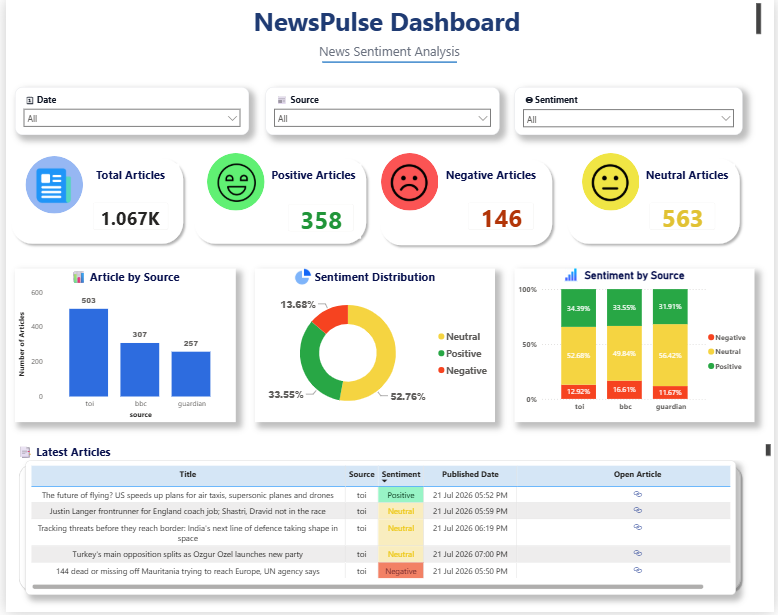

What the dashboard file says about the page in this screenshot:
{"tool":"powerbi","page":{"name":"Page 1","canvas":[1280,1020],"ordinal":0},"visuals":[{"type":"shape","box":[16,768,1216,224],"z":0},{"type":"textbox","box":[16,0,1248,64],"z":1000},{"type":"textbox","box":[16,64,1248,48],"z":2000},{"type":"shape","box":[528,48,224,112],"z":3000},{"type":"slicer","fields":{"Values":["public news.Date Only"]},"box":[16,144,390,80],"z":4000},{"type":"slicer","fields":{"Values":["public news.source"]},"box":[432,144,390,80],"z":5000},{"type":"slicer","fields":{"Values":["public news.sentiment"]},"box":[848,144,380,80],"z":6000},{"type":"shape","box":[0,256,304,160],"z":7000},{"type":"shape","box":[32,259.6,96,96],"z":8000},{"type":"image","box":[48,276.8,64,64],"z":9000},{"type":"cardVisual","fields":{"Data":["CountNonNull(public news.id)"]},"box":[128,320,160,80],"z":10000},{"type":"textbox","box":[144,272,144,64],"z":11000},{"type":"shape","box":[304,256,304,160],"z":12000},{"type":"shape","box":[336,256,96,96],"z":13000},{"type":"cardVisual","fields":{"Data":["public news.Positive Articles"]},"box":[451.3,322.6,144,80],"z":14000},{"type":"textbox","box":[432,272,160,48],"z":15000},{"type":"shape","box":[614.1,258.6,304,160],"z":16000},{"type":"shape","box":[624,256,96,96],"z":17000},{"type":"cardVisual","fields":{"Data":["public news.Negative Articles"]},"box":[752,320,144,80],"z":18000},{"type":"textbox","box":[720,272,176,48],"z":19000},{"type":"shape","box":[928,256,304,160],"z":20000},{"type":"shape","box":[960,256,96,96],"z":21000},{"type":"cardVisual","fields":{"Data":["public news.Neutral Articles"]},"box":[1056,320,144,80],"z":22000},{"type":"textbox","box":[1056,272,160,64],"z":23000},{"type":"image","box":[352,272,64,64],"z":24000},{"type":"image","box":[976,272,64,64],"z":25000},{"type":"image","box":[640,272,64,64],"z":26000},{"type":"clusteredColumnChart","title":"📊 Article by Source","fields":{"Category":["public news.source"],"Y":["CountNonNull(public news.id)"]},"box":[16,448,368,256],"z":27000},{"type":"donutChart","title":"Sentiment Distribution","fields":{"Category":["public news.sentiment"],"Y":["CountNonNull(public news.id)"]},"box":[416,448,400,256],"z":28000},{"type":"image","box":[480,448,30,27],"z":29000},{"type":"hundredPercentStackedColumnChart","title":"Sentiment by Source","fields":{"Category":["public news.source"],"Series":["public news.sentiment"],"Y":["CountNonNull(public news.id)"]},"box":[848,448,400,256],"z":30000},{"type":"image","box":[928,448,28,21],"z":31000},{"type":"tableEx","fields":{"Values":["public news.title","public news.source","public news.sentiment","public news.published","public news.link"]},"box":[32,768,1184,224],"z":32000},{"type":"textbox","box":[16,736,1264,32],"z":33000}]}

Visuals, with their boxes in screenshot pixels (x1, y1, x2, y2), scaled from the page's 1280x1020 canvas onto the 778x615 screenshot:
shape: 10:463:749:598
textbox: 10:0:768:39
textbox: 10:39:768:68
shape: 321:29:457:96
slicer - public news.Date Only: 10:87:247:135
slicer - public news.source: 263:87:500:135
slicer - public news.sentiment: 515:87:746:135
shape: 0:154:185:251
shape: 19:157:78:214
image: 29:167:68:205
cardVisual - CountNonNull(public news.id): 78:193:175:241
textbox: 88:164:175:203
shape: 185:154:370:251
shape: 204:154:263:212
cardVisual - public news.Positive Articles: 274:195:362:243
textbox: 263:164:360:193
shape: 373:156:558:252
shape: 379:154:438:212
cardVisual - public news.Negative Articles: 457:193:545:241
textbox: 438:164:545:193
shape: 564:154:749:251
shape: 584:154:642:212
cardVisual - public news.Neutral Articles: 642:193:729:241
textbox: 642:164:739:203
image: 214:164:253:203
image: 593:164:632:203
image: 389:164:428:203
"📊 Article by Source" clusteredColumnChart: 10:270:233:424
"Sentiment Distribution" donutChart: 253:270:496:424
image: 292:270:310:286
"Sentiment by Source" hundredPercentStackedColumnChart: 515:270:759:424
image: 564:270:581:283
tableEx - public news.title x public news.source: 19:463:739:598
textbox: 10:444:777:463
